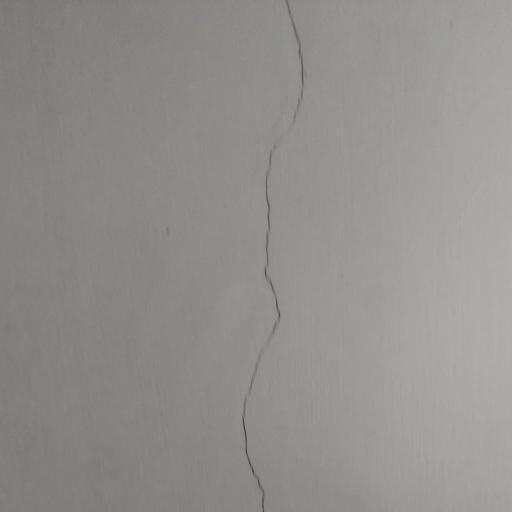minor_crack: (224, 0, 315, 511)
